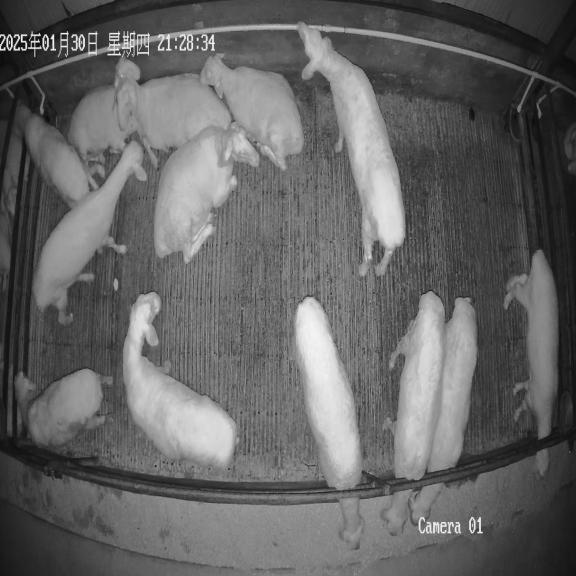drinking: (14, 100, 98, 208)
eating: (293, 296, 363, 549), (408, 297, 477, 524), (381, 291, 445, 535), (504, 250, 559, 476)
lying: (154, 122, 260, 263), (200, 54, 304, 170), (117, 74, 232, 167), (68, 56, 140, 176)
stand: (298, 22, 406, 276), (32, 143, 145, 324), (123, 292, 236, 469), (14, 369, 111, 447)
